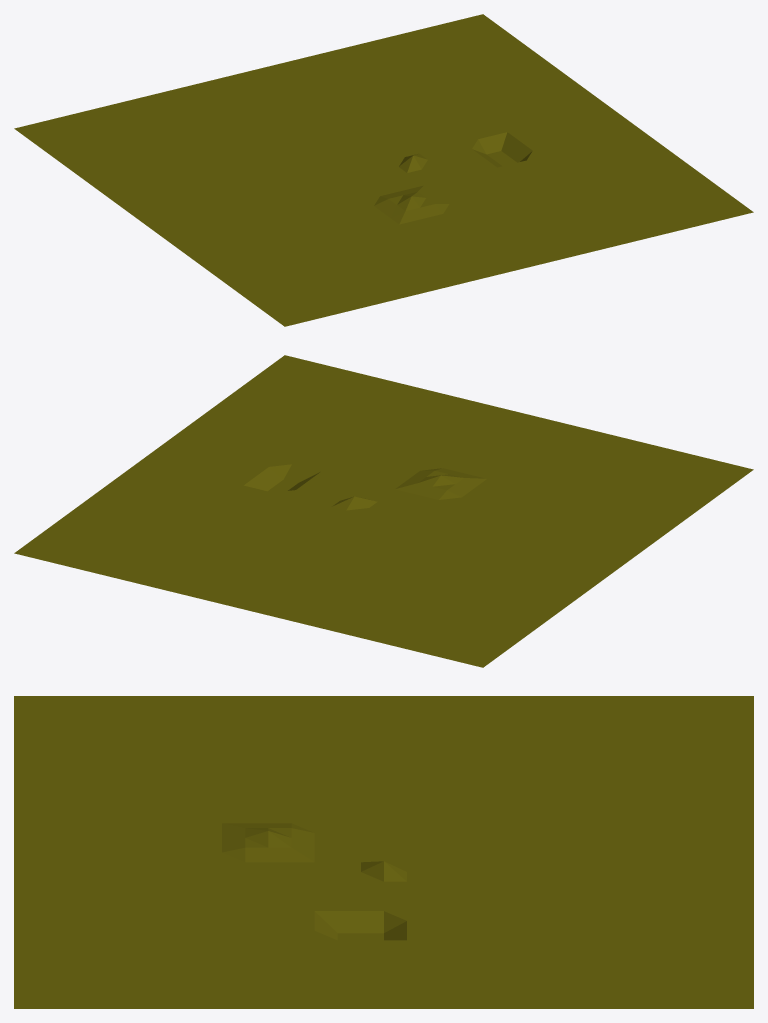
File: ground.obj
3 renders of one model, top to bottom at view 1: azimuth 30°, elevation 25°; view 2: azimuth 150°, elevation 25°; view 3: azimuth 270°, elevation 25°, orthographic. The views are drawn at different scales.
Visible parts, largest first — view 1: Plane; view 2: Plane; view 3: Plane.
Part boxes in pixels (box(x1,y1,x2,y2)): Plane: box(14, 14, 753, 326); Plane: box(14, 355, 753, 667); Plane: box(14, 696, 753, 1008).
Size of the model in its own units: 200 by 7.2 by 200.
